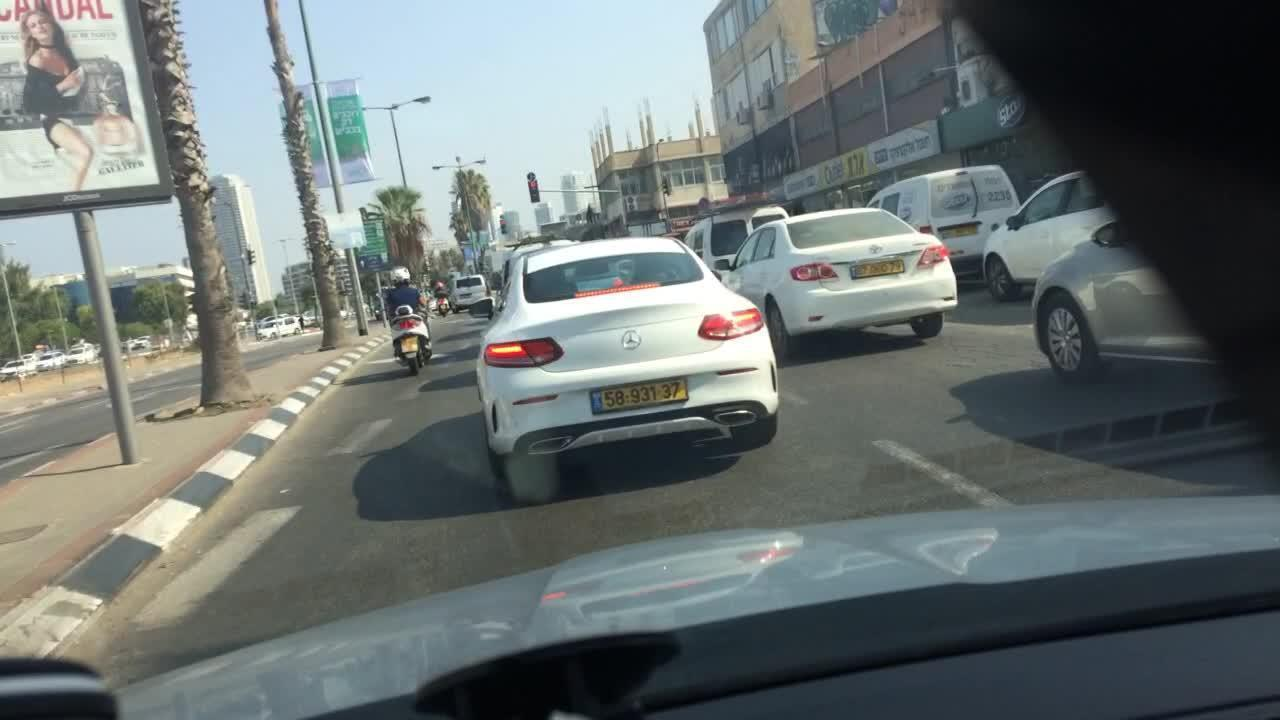Mercedes: (619, 328, 643, 353)
